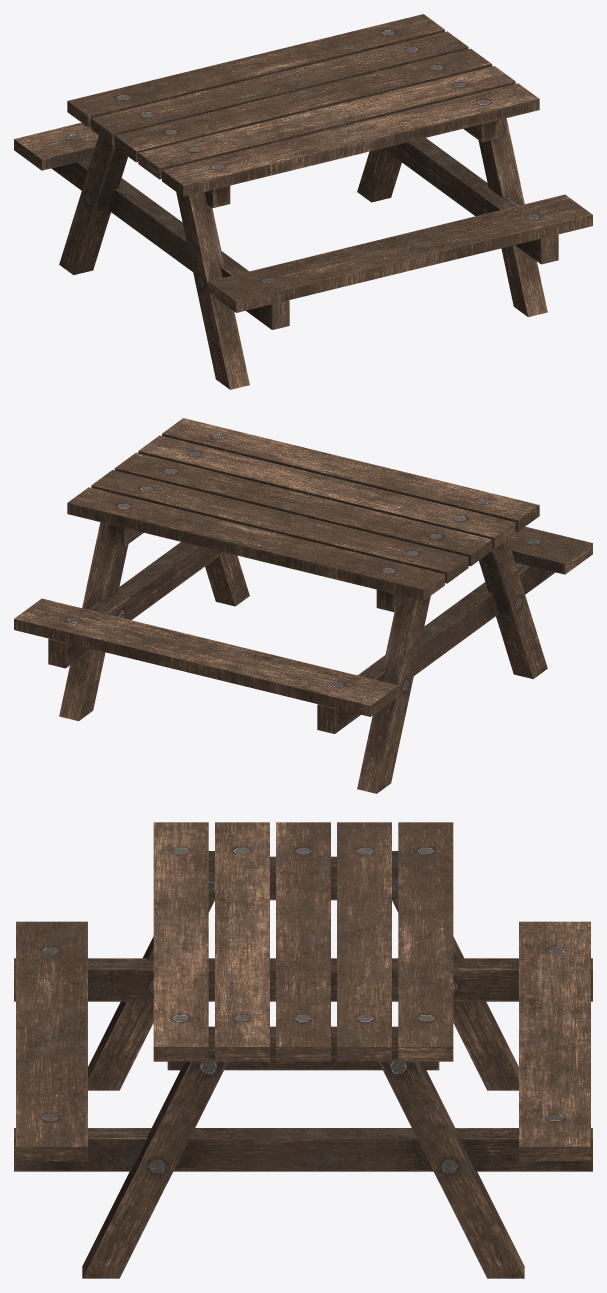
3 views of the same model, one above another, from view 1: azimuth 30°, elevation 25°; view 2: azimuth 150°, elevation 25°; view 3: azimuth 270°, elevation 25° (orthographic). The views are drawn at different scales.
Parts seen in each view (by area): view 1: Beams 3.000, Seat 1.000, Plank 1.000, Beams 2.000, Plank 5.000, Plank 2.000, Plank 3.000, Plank 4.000, Seat 2.000, Beams 1.000; view 2: Beams 3.000, Seat 2.000, Plank 5.000, Beams 2.000, Plank 1.000, Plank 4.000, Plank 3.000, Plank 2.000, Seat 1.000, Beams 1.000; view 3: Beams 3.000, Beams 2.000, Seat 2.000, Seat 1.000, Plank 5.000, Plank 1.000, Plank 3.000, Plank 4.000, Plank 2.000, Beams 1.000.
Part boxes in pixels (x1,y1,x2,y2): Beams 3.000: (59, 118, 547, 389); Seat 1.000: (208, 194, 592, 312); Plank 1.000: (162, 83, 539, 196); Beams 2.000: (51, 138, 558, 329); Plank 5.000: (67, 14, 444, 127); Plank 2.000: (138, 66, 515, 179); Plank 3.000: (114, 48, 492, 162); Plank 4.000: (91, 31, 468, 144); Seat 2.000: (14, 122, 98, 170); Beams 1.000: (204, 120, 499, 207); Beams 3.000: (59, 522, 547, 793); Seat 2.000: (14, 598, 398, 716); Plank 5.000: (67, 487, 444, 600); Beams 2.000: (48, 542, 555, 733); Plank 1.000: (162, 418, 539, 531); Plank 4.000: (91, 470, 468, 583); Plank 3.000: (114, 452, 492, 566); Plank 2.000: (138, 435, 515, 548); Seat 1.000: (508, 526, 592, 574); Beams 1.000: (107, 524, 402, 611); Beams 3.000: (82, 851, 524, 1278); Beams 2.000: (14, 958, 592, 1171); Seat 2.000: (519, 921, 590, 1161); Seat 1.000: (16, 921, 87, 1161); Plank 5.000: (398, 822, 453, 1061); Plank 1.000: (153, 822, 208, 1061); Plank 3.000: (276, 822, 330, 1061); Plank 4.000: (337, 822, 391, 1061); Plank 2.000: (215, 822, 269, 1061); Beams 1.000: (167, 856, 439, 1070).
Size of the model in its own units: 1.89 by 0.9564 by 2.06.
1 material, 1 textured.
